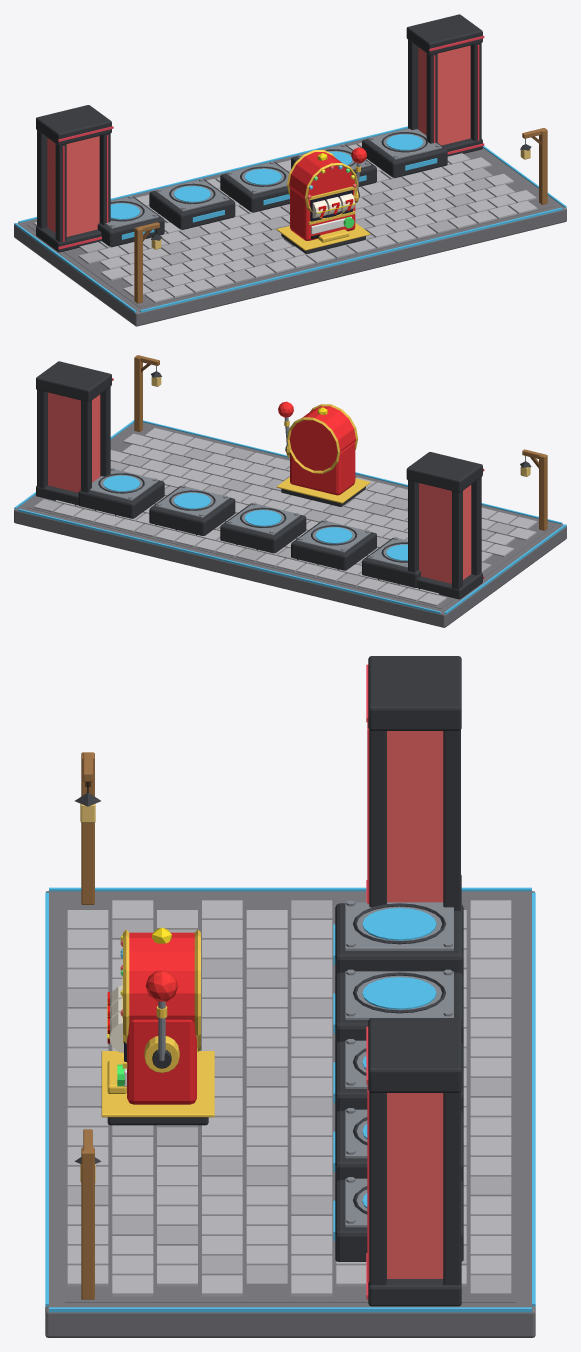
The model's file is puesto_palanca.glb.
3 renders of one model, top to bottom at view 1: azimuth 30°, elevation 25°; view 2: azimuth 150°, elevation 25°; view 3: azimuth 270°, elevation 25°, orthographic. The views are drawn at different scales.
Visible parts, largest first — view 1: Zona, Consola, Pedestal_2, Pedestal_5, Pedestal_3, Pedestal_1, Pedestal_4; view 2: Zona, Consola, Pedestal_3, Pedestal_4, Pedestal_2, Pedestal_5, Pedestal_1; view 3: Zona, Consola, Pedestal_1, Pedestal_2, Pedestal_5, Pedestal_4, Pedestal_3, Palanca_Brazo.
Part boxes in pixels (x1,y1,x2,y2): Zona: (14,14,566,326); Consola: (276,150,370,253); Pedestal_2: (149,178,235,229); Pedestal_5: (362,128,447,177); Pedestal_3: (220,161,289,212); Pedestal_1: (97,196,164,247); Pedestal_4: (291,144,376,186); Zona: (14,355,566,627); Consola: (276,404,370,506); Pedestal_3: (220,502,306,553); Pedestal_4: (149,485,235,535); Pedestal_2: (291,520,376,570); Pedestal_5: (78,468,164,518); Pedestal_1: (362,537,420,587); Zona: (45,656,535,1337); Consola: (101,927,214,1125); Pedestal_1: (333,900,463,975); Pedestal_2: (333,969,463,1045); Pedestal_5: (333,1177,463,1261); Pedestal_4: (333,1108,463,1183); Pedestal_3: (333,1039,463,1114); Palanca_Brazo: (145,970,178,1060).
Bounding box in the file's own units: 25.6 × 7.55 × 12.6.
1 material, 1 textured.
